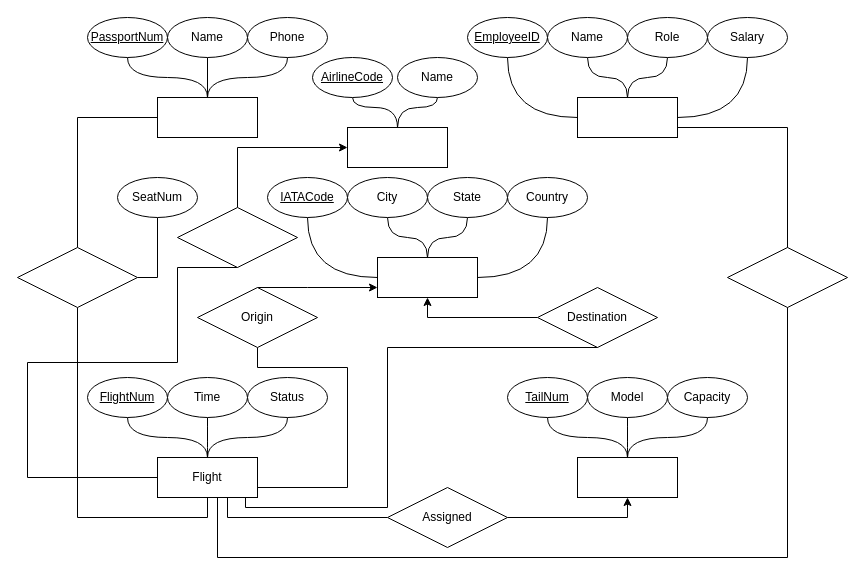
The diagram is 865 pixels wide and 576 high, and some of its shapes have lost their labels. Each missing label, with the centre of its shape:
Aircraft: (x=627, y=477)
Airline: (x=397, y=147)
Airport: (x=427, y=277)
Booking: (x=77, y=277)
Employee: (x=627, y=117)
Operates: (x=237, y=237)
Passenger: (x=207, y=117)
Staffing: (x=787, y=277)
